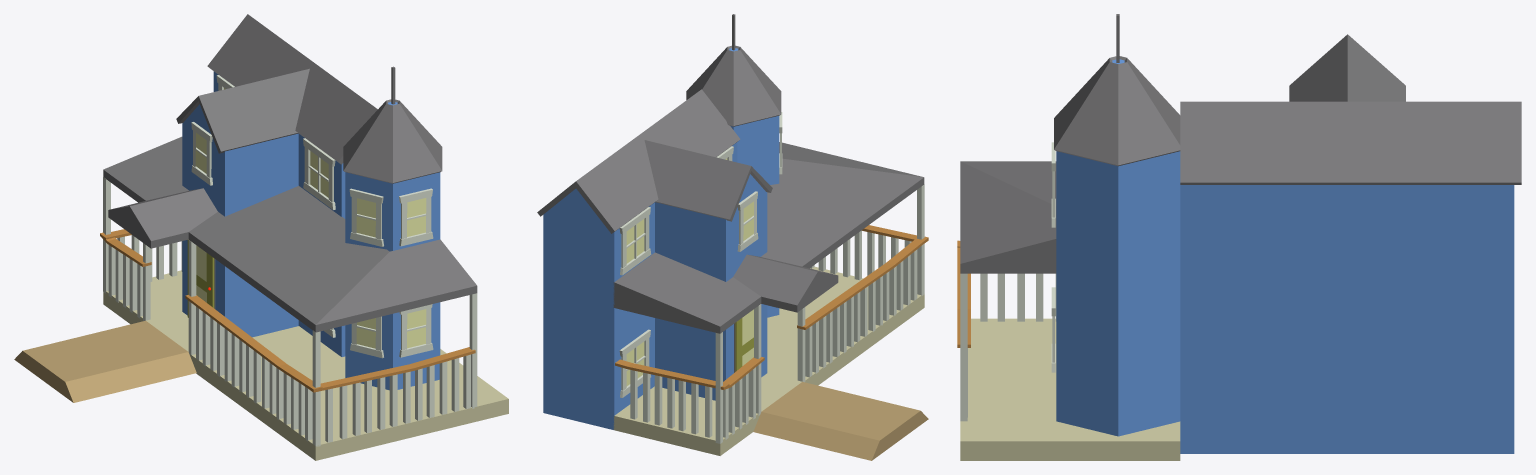
The model's file is victorian-house.fbx.
The picture shows the model from 3 angles, left to right: view 1: azimuth 30°, elevation 25°; view 2: azimuth 150°, elevation 25°; view 3: azimuth 270°, elevation 25°; orthographic projection. The views are drawn at different scales.
Visible parts, largest first — view 1: Cube.036, Cube.038, house.001, concrete block, house.003, Cylinder.001, house.004, Cylinder.005, Cube.041, Cube.037, house.002, single-window (+14 smaller); view 2: Cube.036, house.002, house.001, house.003, concrete block, house.004, Cube.038, Cylinder.005, Cube.037, Cube.041, Cylinder.001, window.005 (+17 smaller); view 3: house.002, Cylinder.001, house.003, Cube.038, Cube.036, Cylinder.005, house.004, Cube.059, Cube.060.
Part boxes in pixels (left/top/right/bottom): Cube.036: left=103, top=136, right=477, bottom=332; Cube.038: left=190, top=326, right=508, bottom=460; house.001: left=182, top=104, right=298, bottom=337; concrete block: left=14, top=320, right=196, bottom=402; house.003: left=207, top=14, right=377, bottom=164; Cylinder.001: left=345, top=102, right=440, bottom=390; house.004: left=176, top=68, right=309, bottom=153; Cylinder.005: left=343, top=99, right=442, bottom=183; Cube.041: left=108, top=188, right=217, bottom=248; Cube.037: left=103, top=270, right=182, bottom=324; house.002: left=213, top=71, right=345, bottom=356; single-window: left=399, top=188, right=433, bottom=246; Cube.036: left=613, top=142, right=924, bottom=333; house.002: left=543, top=142, right=737, bottom=429; house.001: left=655, top=174, right=767, bottom=400; house.003: left=537, top=89, right=740, bottom=233; concrete block: left=753, top=382, right=928, bottom=460; house.004: left=644, top=140, right=772, bottom=221; Cube.038: left=767, top=266, right=924, bottom=385; Cylinder.005: left=686, top=45, right=781, bottom=126; Cube.037: left=613, top=386, right=759, bottom=455; Cube.041: left=733, top=254, right=838, bottom=312; Cylinder.001: left=729, top=48, right=779, bottom=317; window.005: left=619, top=207, right=651, bottom=275; house.002: left=1180, top=185, right=1514, bottom=453; Cylinder.001: left=1056, top=59, right=1180, bottom=436; house.003: left=1180, top=101, right=1521, bottom=184; Cube.038: left=960, top=318, right=1180, bottom=460; Cube.036: left=960, top=161, right=1056, bottom=273; Cylinder.005: left=1054, top=56, right=1180, bottom=166; house.004: left=1289, top=34, right=1405, bottom=101; Cube.059: left=960, top=273, right=967, bottom=421; Cube.060: left=957, top=247, right=970, bottom=347.
Size of the model in its own units: 1284 by 1223 by 1521.
